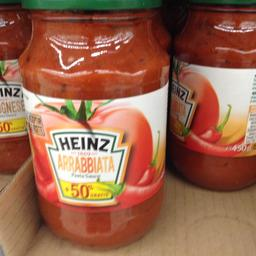tomato_sauce: (16, 0, 169, 248), (168, 0, 255, 193)
